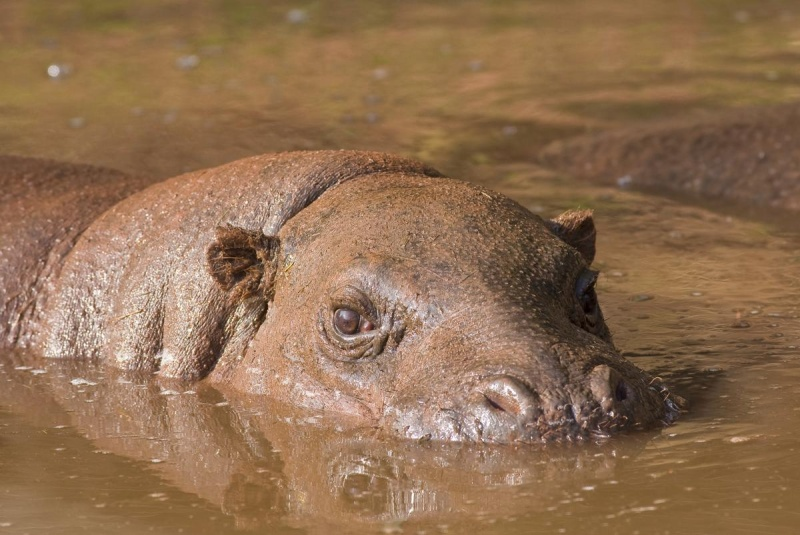hipopotamo: (0, 121, 686, 440)
